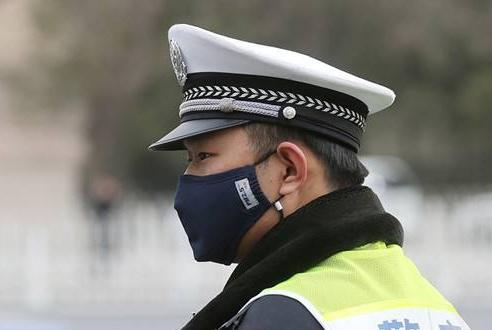OK: (175, 134, 256, 267)
